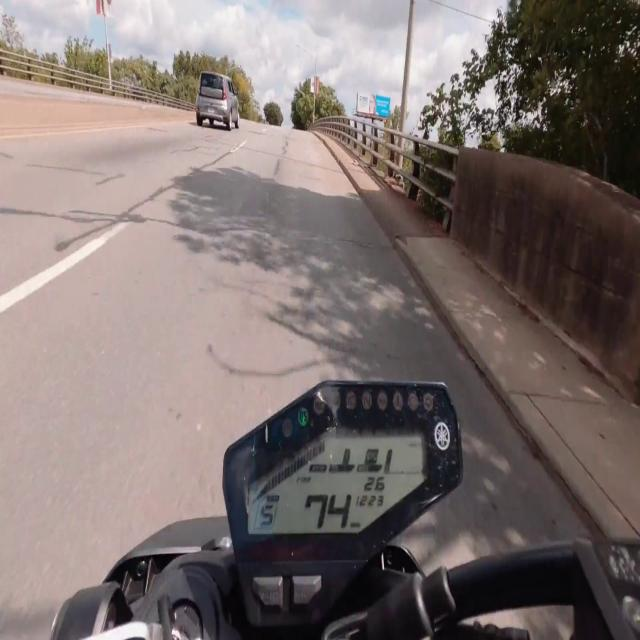car: (196, 72, 239, 130)
motorcycle: (51, 382, 639, 639)
